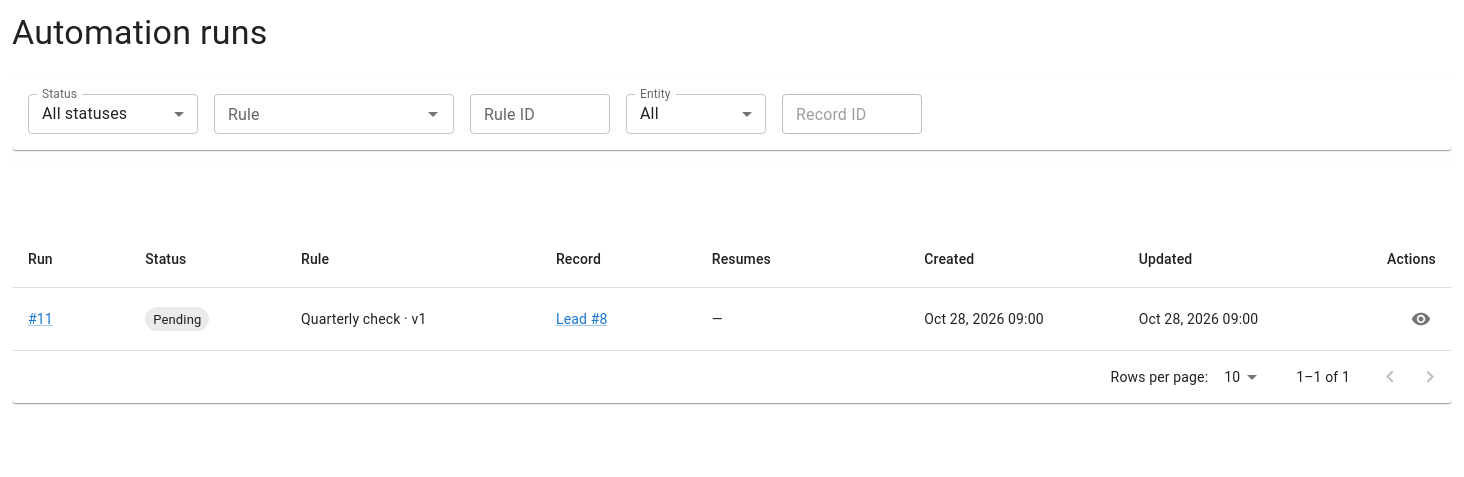
Test: AutomationRunList › lets an admin pick a rule by name from later rule pages
The width and height of the screenshot is (1464, 477).
Expected: the text "Quarterly check · v1" is shown, [285,288,540,351]
Step 1. Press the mouse on the dropdown labelled "Rule" → (318, 114), box [220,100,415,128]
(page scrolled)
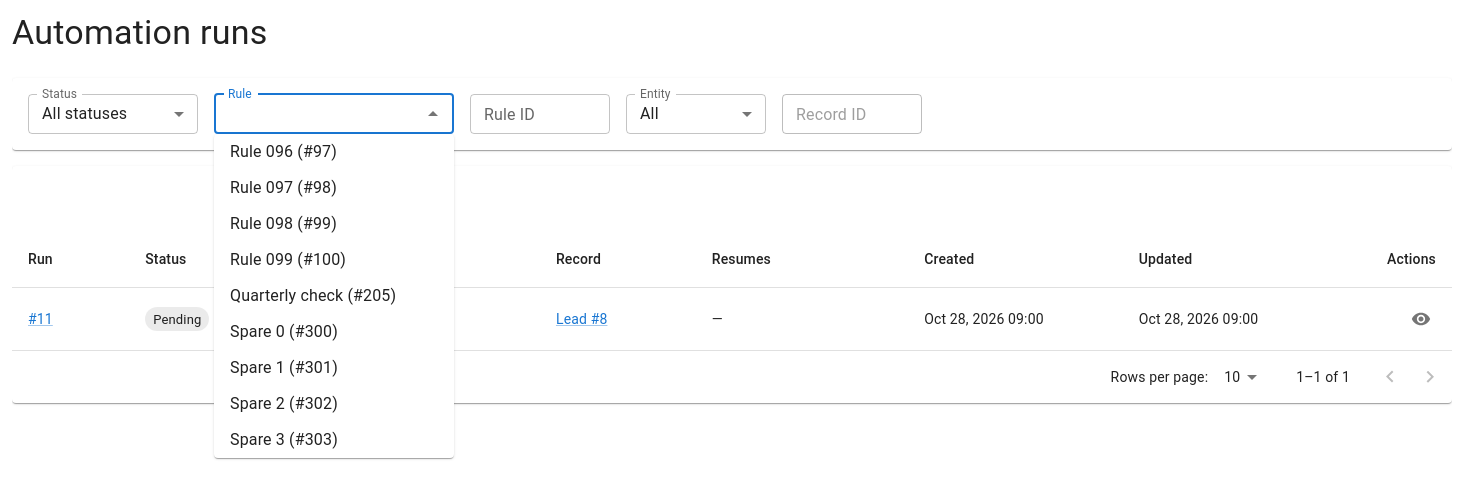
Step 2. Click the option "Quarterly check (#205)" → (313, 296), box [230,286,396,305]
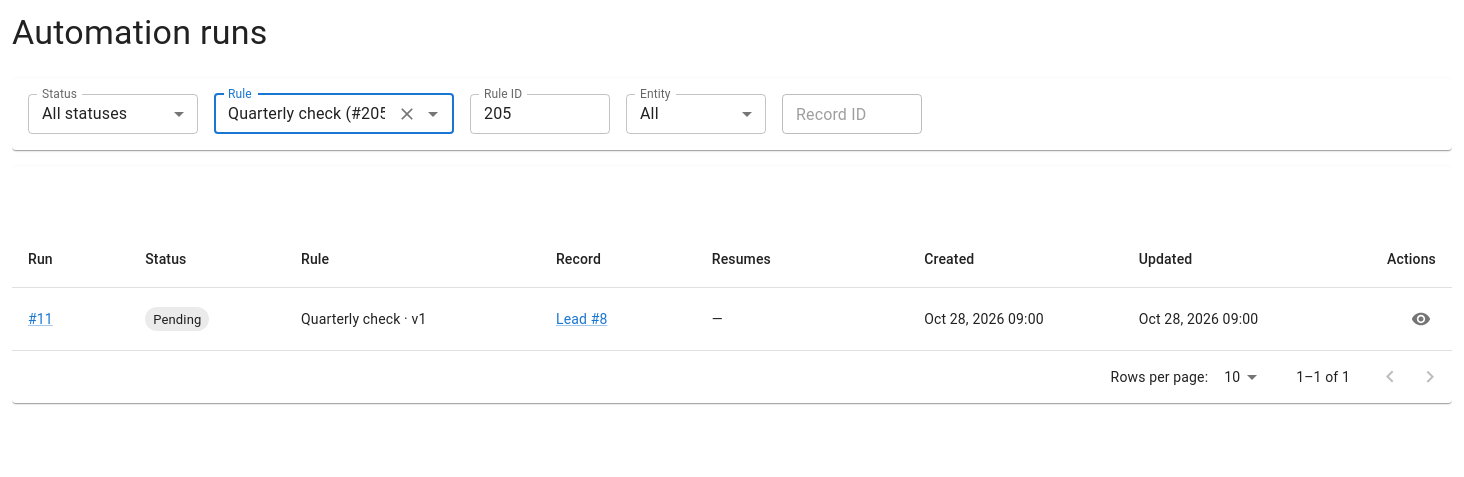
Expected: the text "Quarterly check · v1" is shown, [285,288,540,351]
Now the dropdown labelled "Rule" holds "Quarterly check (#205)", box [220,100,389,128]
Now the number field labelled "Rule ID" holds "205", box [470,94,610,134]
